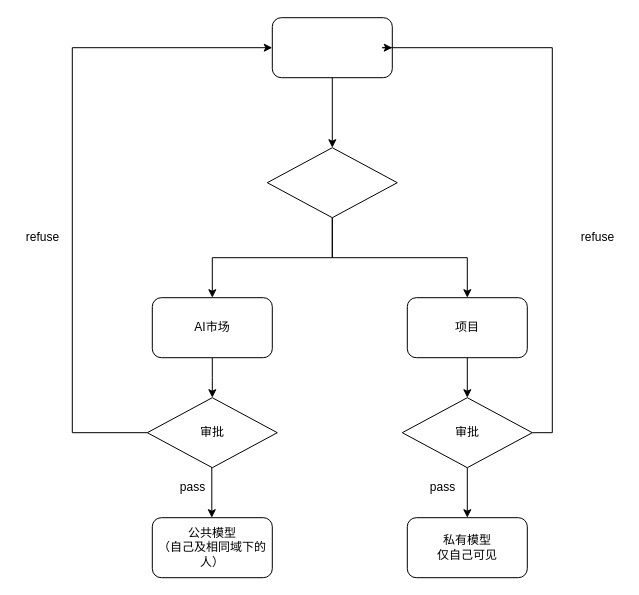
The diagram is 639 pixels wide and 595 high, and some of its shapes have lost their labels. Each missing label, with the centre of its shape:
"创建模型" goes at point (331, 47).
"发布模型 公共/私有" goes at point (331, 182).
